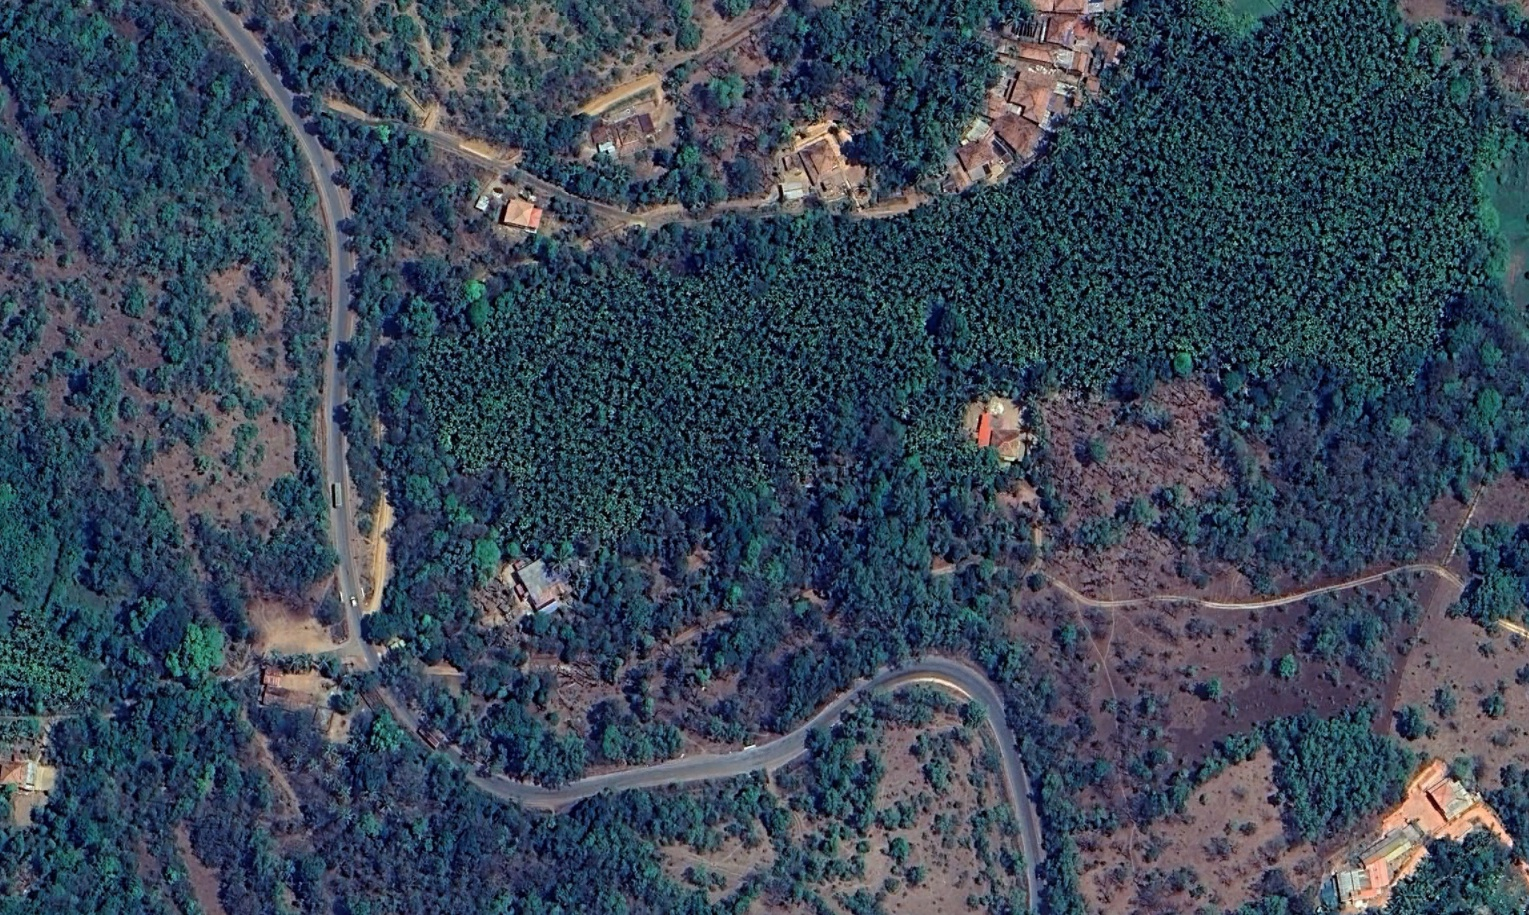arecanut: (411, 1, 1494, 534), (1, 606, 89, 697)
